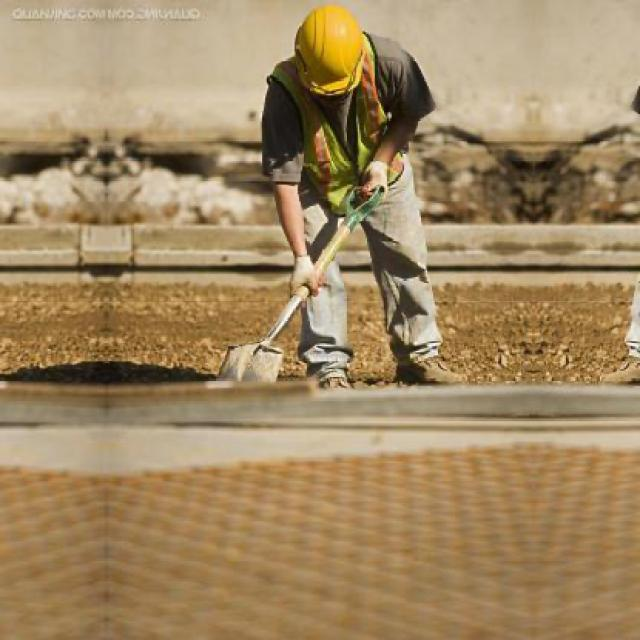helmet: (290, 6, 373, 106)
